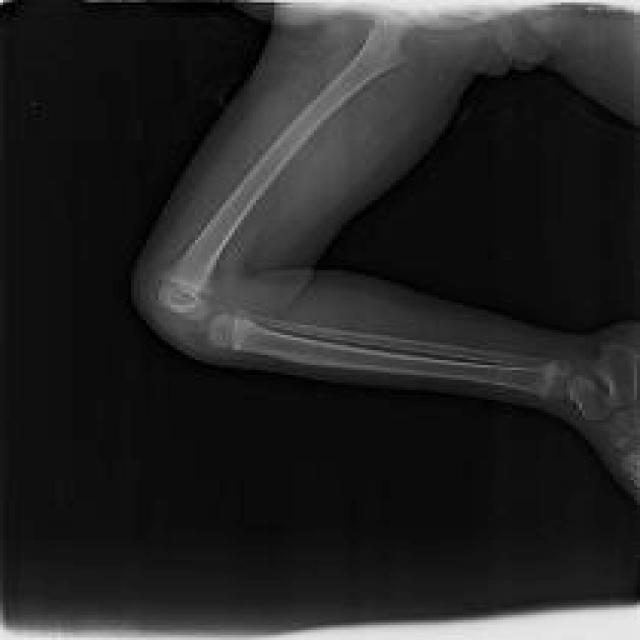normal: (204, 311, 634, 490), (157, 15, 405, 317)
